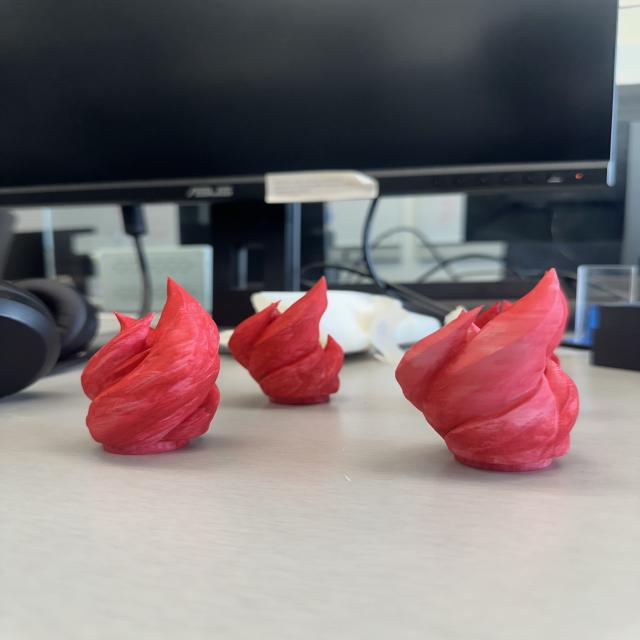fire: (392, 264, 580, 476), (77, 275, 228, 460), (230, 274, 344, 408)
